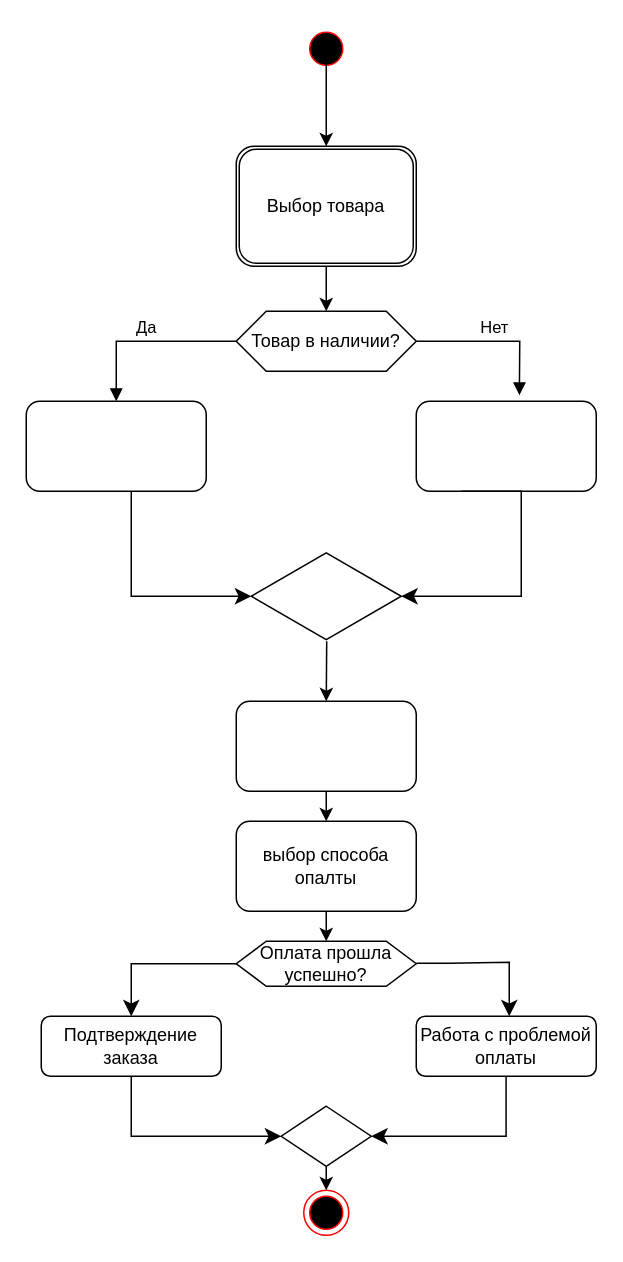
Image size: 623x1262. Some labels were removed from this diagram. The shapes that lost their labels are listed below. From the top down, each one's centre as x and y in pixels, then its label:
At [115,445]: "Добавление в корзину".
At [505,445]: "Информирование о недостатке".
At [325,745]: "Выбор способа доставки".
